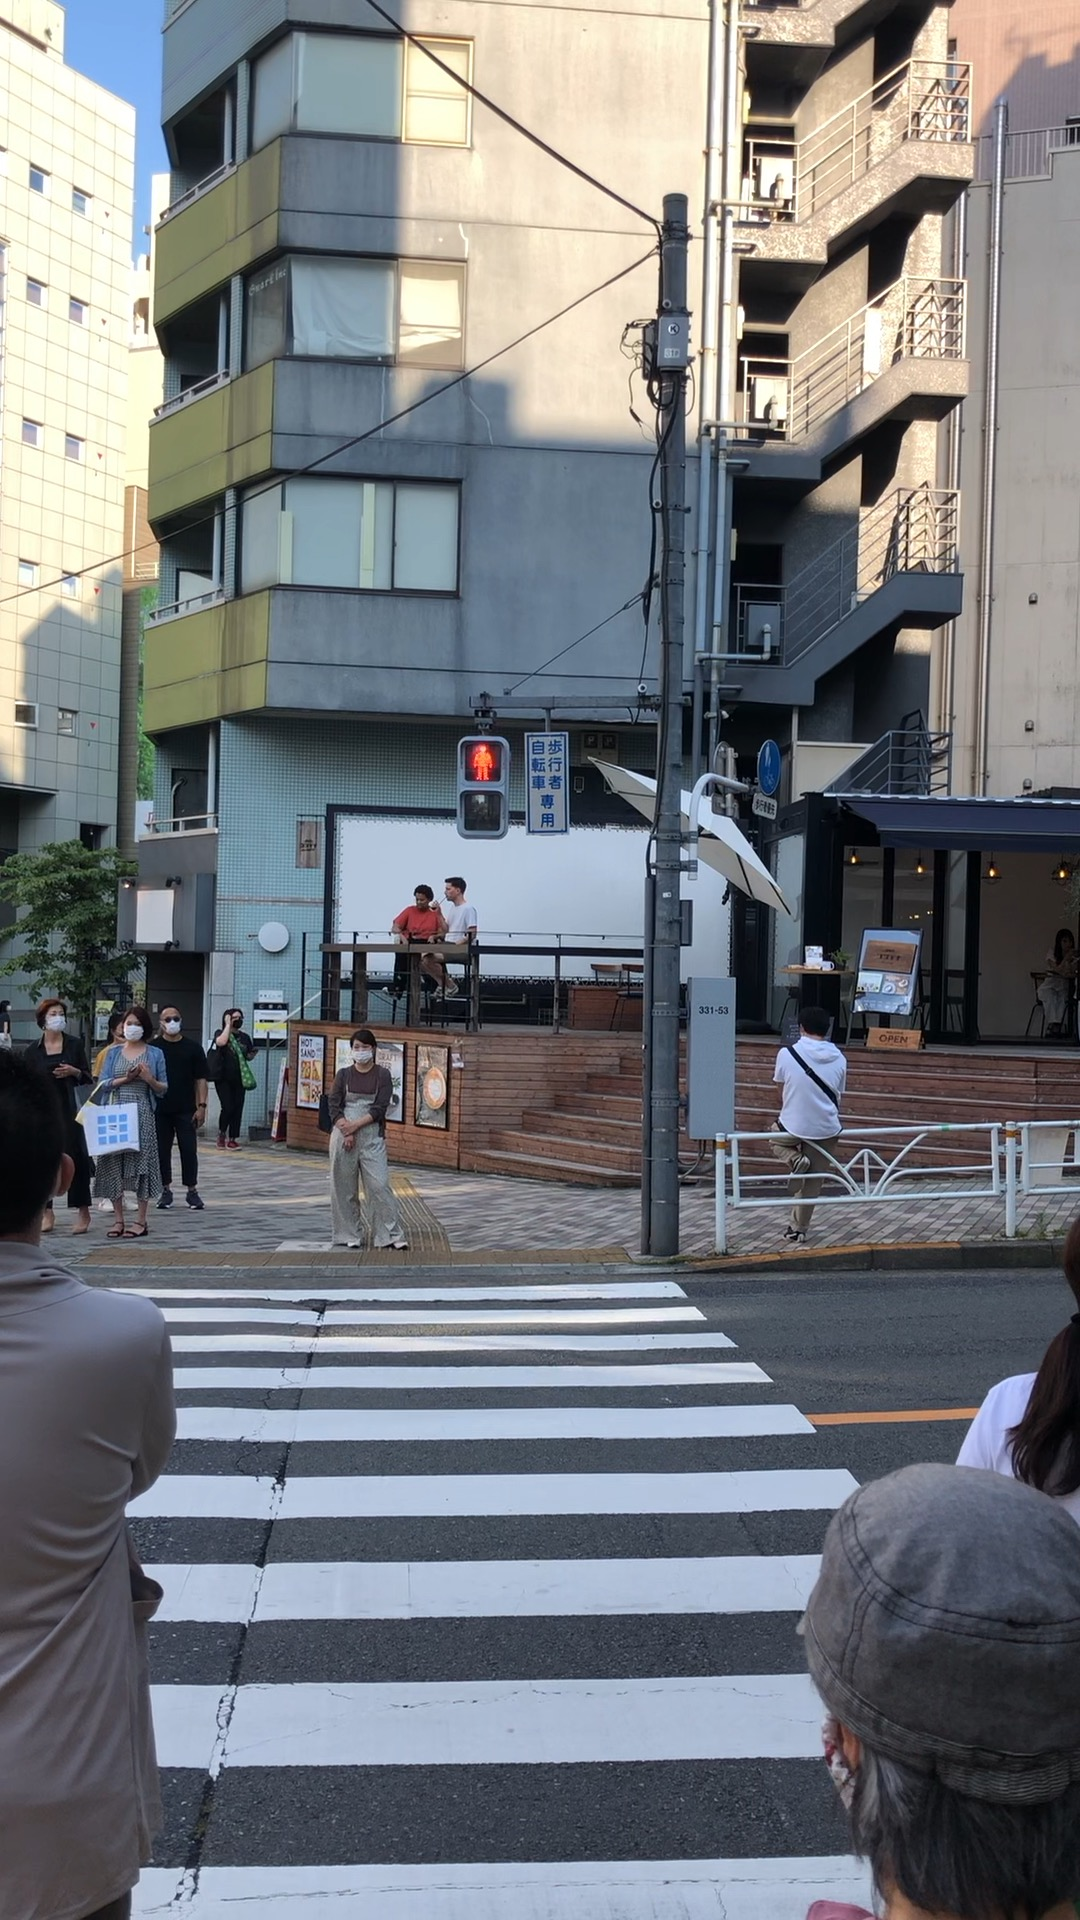red: (455, 737, 508, 839)
